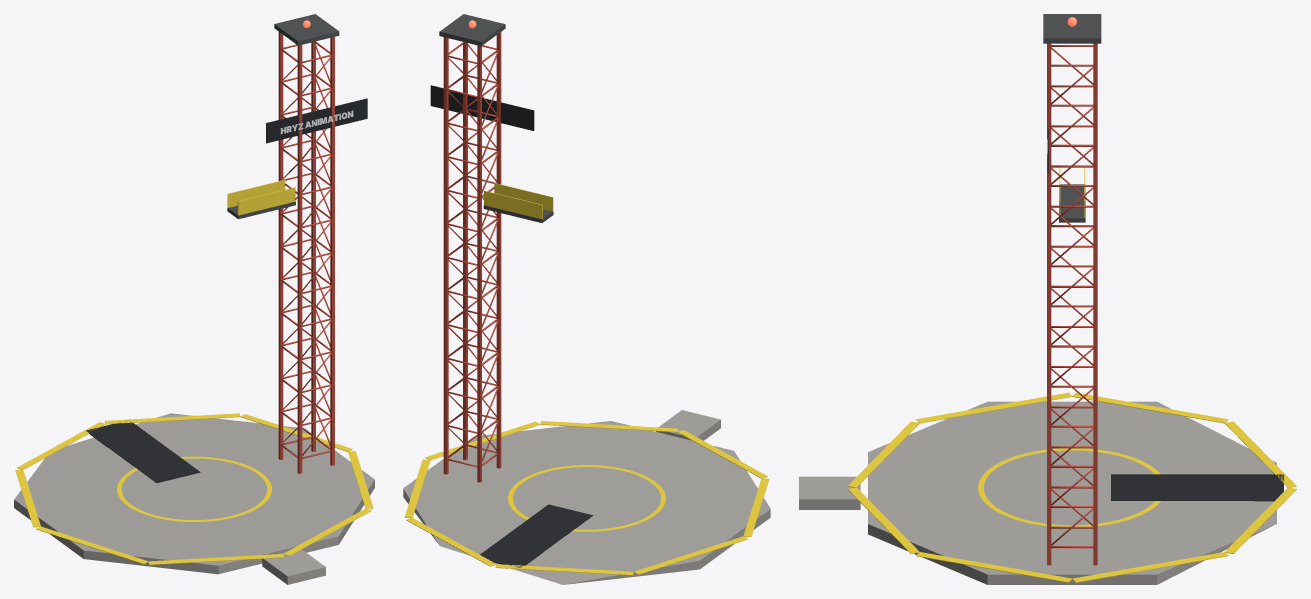
Rendered from plataforma_foguete.glb.
3 renders of one model, left to right at view 1: azimuth 30°, elevation 25°; view 2: azimuth 150°, elevation 25°; view 3: azimuth 270°, elevation 25°, orthographic. The views are drawn at different scales.
Parts seen in each view (by area): view 1: PadBase, PadTrincheira, TorreColuna-1-1, TorreColuna-11, TorreColuna1-1, PlacaFundo, TorreColuna11, PadRampa, TorreTopo, PadCirculo, TorreGuarda-0.65, TorreGuarda0.65 (+7 smaller); view 2: PadBase, PadTrincheira, TorreColuna11, TorreColuna-1-1, TorreColuna-11, TorreColuna1-1, PlacaFundo, TorreTopo, PadRampa, PadCirculo, TorreGuarda0.65, TorreGuarda-0.65 (+8 smaller); view 3: PadBase, PadTrincheira, TorreColuna11, TorreColuna1-1, PadRampa, TorreTopo, PadCirculo, TorreBraco, PadFaixa0, PadFaixa7, PadFaixa4, PadFaixa3 (+4 smaller).
Part boxes in pixels (x1,y1,x2,y2): PadBase: (14,413,374,574); PadTrincheira: (86,420,200,482); TorreColuna-1-1: (297,45,302,473); TorreColuna-11: (278,32,283,459); TorreColuna1-1: (330,36,334,465); PlacaFundo: (266,98,367,143); TorreColuna11: (311,42,315,451); PadRampa: (262,549,325,584); TorreTopo: (274,14,339,45); PadCirculo: (117,456,271,521); TorreGuarda-0.65: (237,187,295,215); TorreGuarda0.65: (227,180,285,207); PadBase: (403,421,770,584); PadTrincheira: (480,504,593,567); TorreColuna11: (443,37,448,474); TorreColuna-1-1: (496,32,501,468); TorreColuna-11: (477,45,481,482); TorreColuna1-1: (463,42,467,460); PlacaFundo: (430,85,534,130); TorreTopo: (439,14,505,46); PadRampa: (656,410,720,440); PadCirculo: (508,465,665,531); TorreGuarda0.65: (484,190,542,219); TorreGuarda-0.65: (494,183,553,211); PadBase: (868,401,1276,584); PadTrincheira: (1111,474,1283,501); TorreColuna11: (1093,43,1097,565); TorreColuna1-1: (1047,43,1051,565); PadRampa: (799,476,860,509); TorreTopo: (1043,14,1101,43); PadCirculo: (978,448,1160,526); TorreBraco: (1059,184,1085,222); PadFaixa0: (1072,552,1228,582); PadFaixa7: (916,552,1072,582); PadFaixa4: (916,392,1072,423); PadFaixa3: (1072,392,1228,423).
Bounding box in the file's own units: 23.57 × 31.4 × 25.87.
